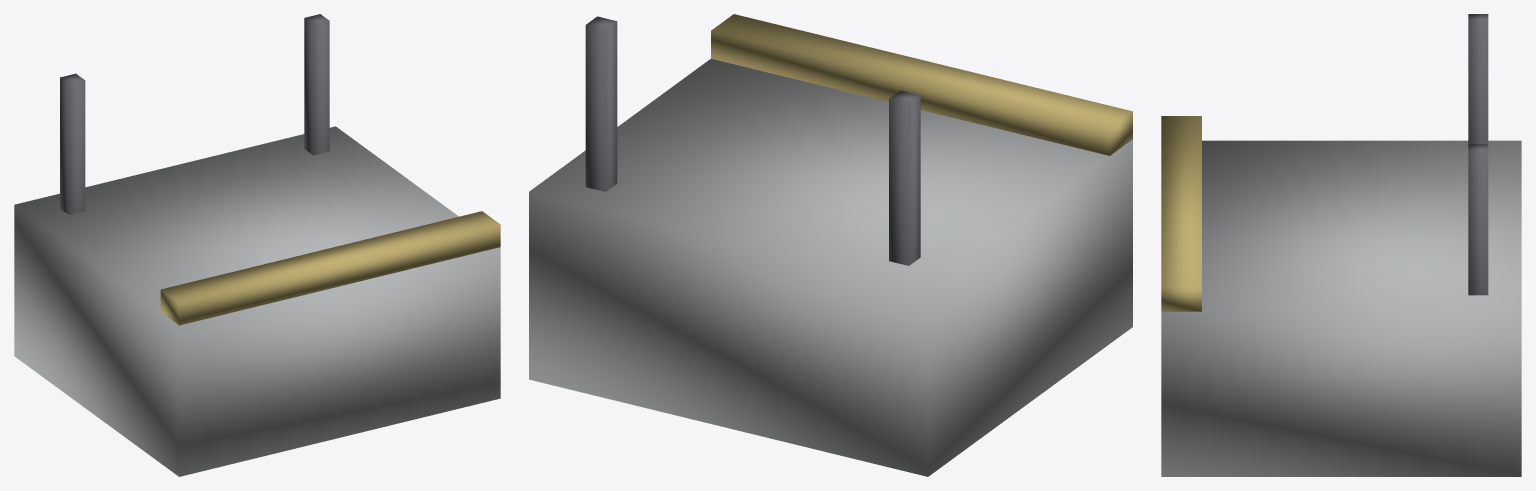
The model's file is loading_dock_06.glb.
3 views of the same model, side by side, from view 1: azimuth 30°, elevation 25°; view 2: azimuth 150°, elevation 25°; view 3: azimuth 270°, elevation 25° (orthographic). The views are drawn at different scales.
Visible parts, largest first — view 1: world; view 2: world; view 3: world.
Part boxes in pixels (x1=…): world: x1=14, y1=14, x2=500, y2=476; world: x1=529, y1=14, x2=1132, y2=476; world: x1=1161, y1=14, x2=1521, y2=476.
Bounding box in the file's own units: 1.8 × 1.51 × 1.6.
